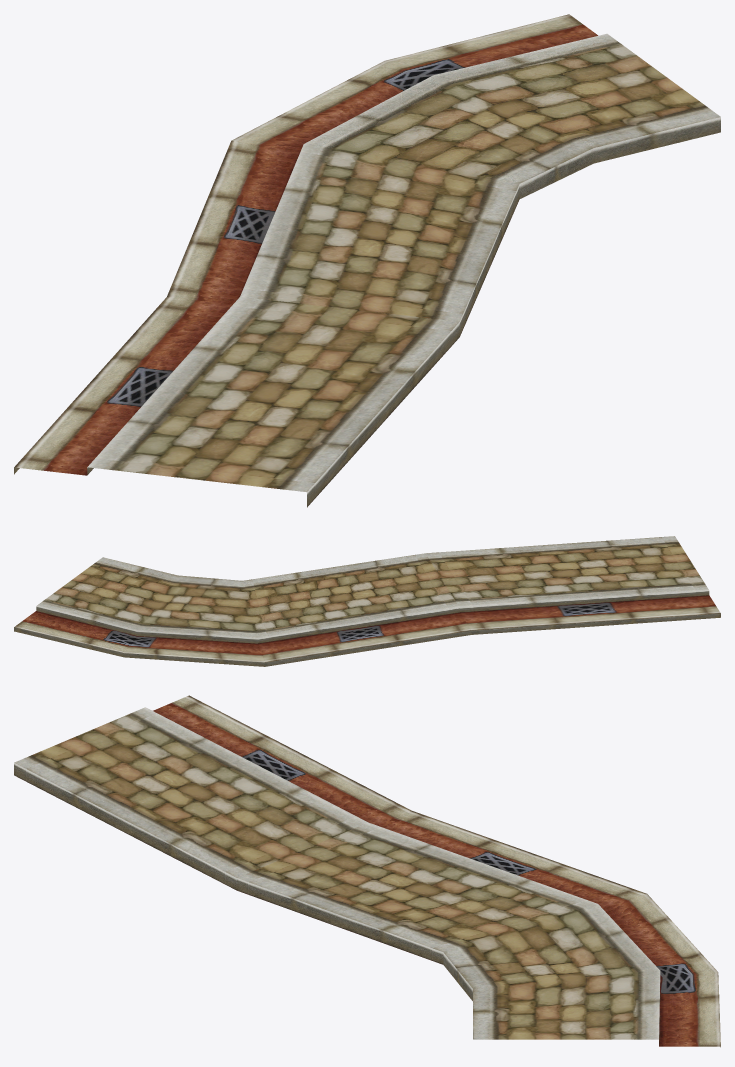
Rendered from obj_masabkrououtle03.glb.
3 renders of one model, top to bottom at view 1: azimuth 30°, elevation 25°; view 2: azimuth 150°, elevation 25°; view 3: azimuth 270°, elevation 25°, orthographic. The views are drawn at different scales.
Parts seen in each view (by area): view 1: part_0; view 2: part_0; view 3: part_0.
Part boxes in pixels (x1,y1,x2,y2): part_0: [14, 14, 720, 507]; part_0: [14, 536, 720, 666]; part_0: [14, 695, 720, 1047].
Bounding box in the file's own units: 13.41 × 0.2275 × 11.41.
Materials: 1 (1 with a texture image).
